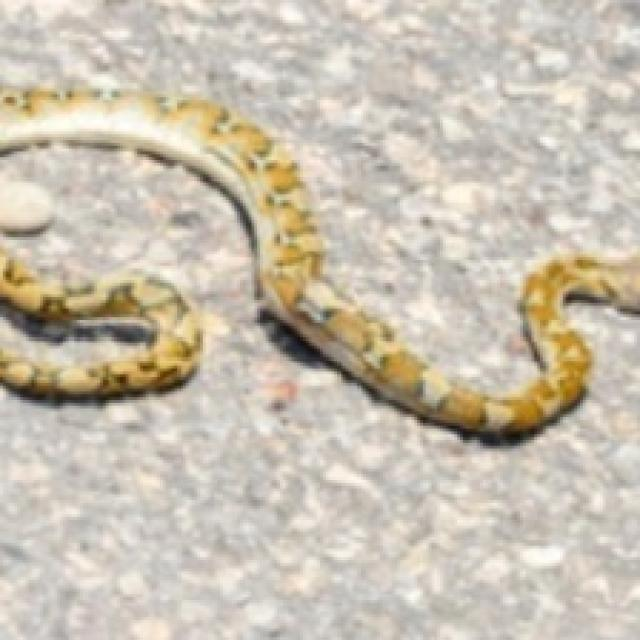reticulated python: (0, 89, 637, 440), (0, 248, 202, 397)
